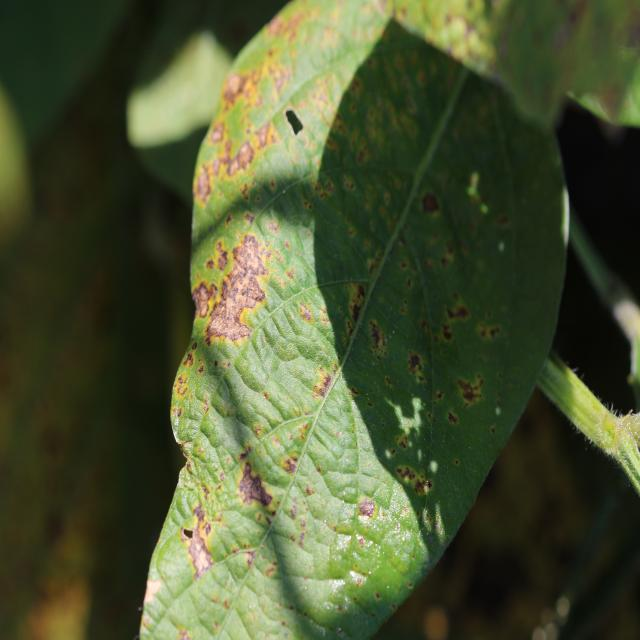Bacterial_Blight: (194, 249, 272, 363), (237, 461, 272, 509), (185, 520, 214, 576), (395, 463, 434, 496), (225, 139, 254, 178), (464, 174, 490, 216), (456, 374, 486, 408), (345, 282, 365, 330), (191, 280, 214, 321), (222, 72, 245, 103), (312, 369, 335, 398), (368, 320, 387, 354), (194, 171, 211, 203), (213, 239, 231, 269), (477, 320, 501, 342), (407, 350, 424, 377), (421, 192, 440, 214), (446, 304, 469, 322), (210, 121, 225, 144), (358, 499, 375, 518), (175, 377, 189, 398), (395, 433, 410, 452), (192, 504, 206, 524), (282, 457, 298, 474), (181, 350, 194, 369), (440, 324, 453, 343), (447, 411, 459, 425), (298, 532, 306, 548)
Soybean: (140, 1, 569, 640)
